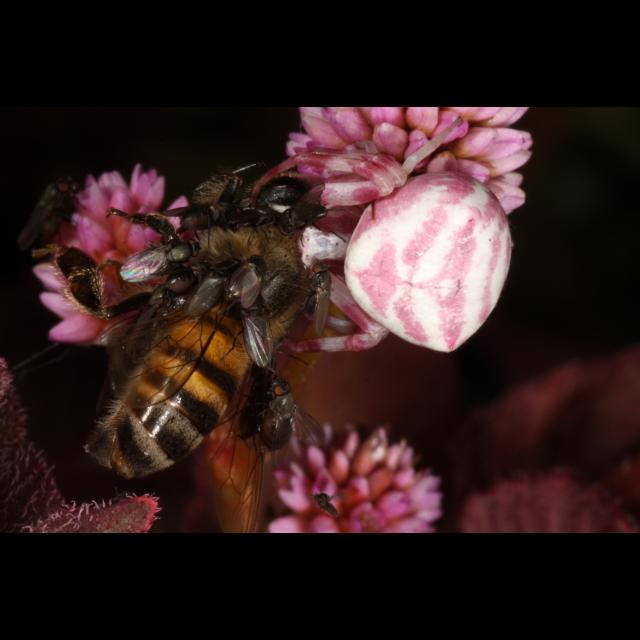Flower: (262, 107, 530, 357), (31, 159, 192, 351), (263, 416, 451, 534)
